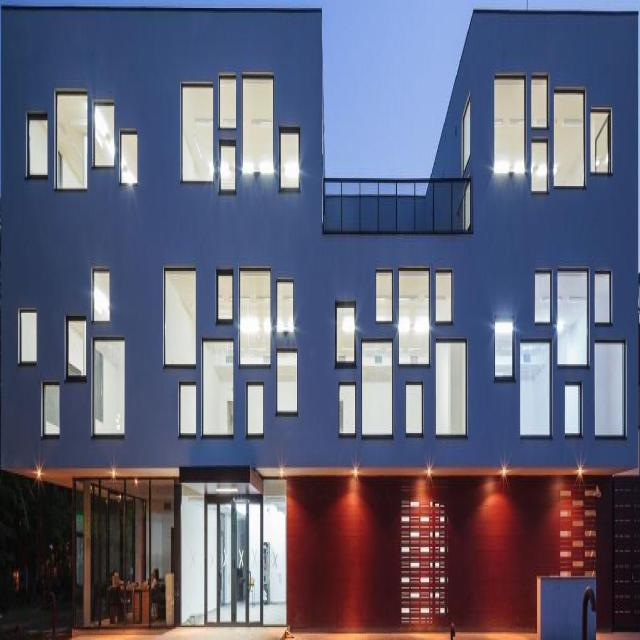Railing: (324, 177, 472, 232)
door: (204, 489, 264, 632)
wall: (0, 0, 639, 636)
windows: (90, 482, 288, 629), (182, 83, 215, 184), (593, 344, 628, 438), (520, 338, 552, 440), (493, 77, 526, 173), (91, 342, 125, 435), (56, 92, 88, 190), (163, 267, 197, 359), (556, 272, 589, 366), (202, 341, 234, 437), (400, 270, 431, 368), (240, 272, 272, 366), (437, 341, 466, 444), (243, 78, 273, 175), (554, 95, 584, 186), (363, 343, 393, 433), (92, 100, 116, 172), (26, 112, 49, 174), (276, 355, 298, 415), (591, 110, 612, 168), (280, 126, 299, 190), (336, 305, 356, 365), (68, 318, 87, 379), (594, 269, 614, 324), (338, 382, 356, 437), (219, 74, 236, 132), (246, 381, 264, 435), (41, 388, 60, 439), (532, 74, 548, 132), (19, 310, 37, 361), (276, 282, 294, 332), (495, 328, 513, 378), (219, 144, 236, 194), (436, 272, 452, 325), (93, 274, 111, 321), (217, 272, 234, 321), (532, 140, 549, 188), (534, 273, 551, 321), (378, 270, 393, 324), (405, 386, 423, 431), (120, 134, 136, 184), (180, 382, 196, 432), (566, 384, 581, 437)
